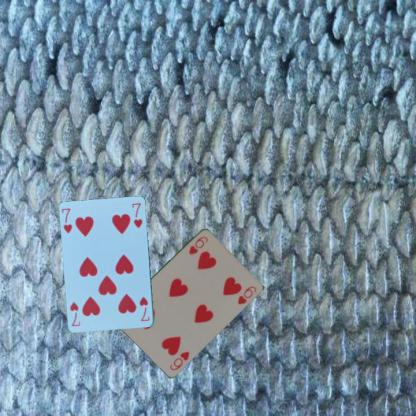6h: (186, 233, 209, 256), (168, 349, 191, 372)
7h: (60, 206, 74, 235), (137, 295, 151, 322)
